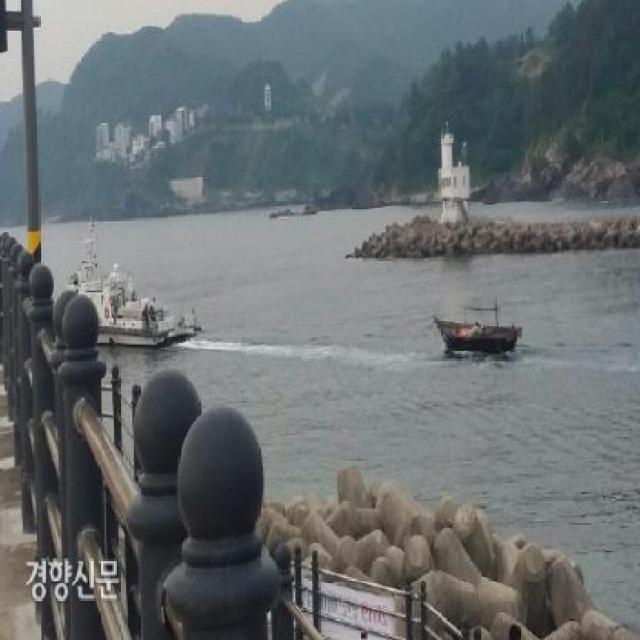fish-b: (430, 293, 526, 362)
